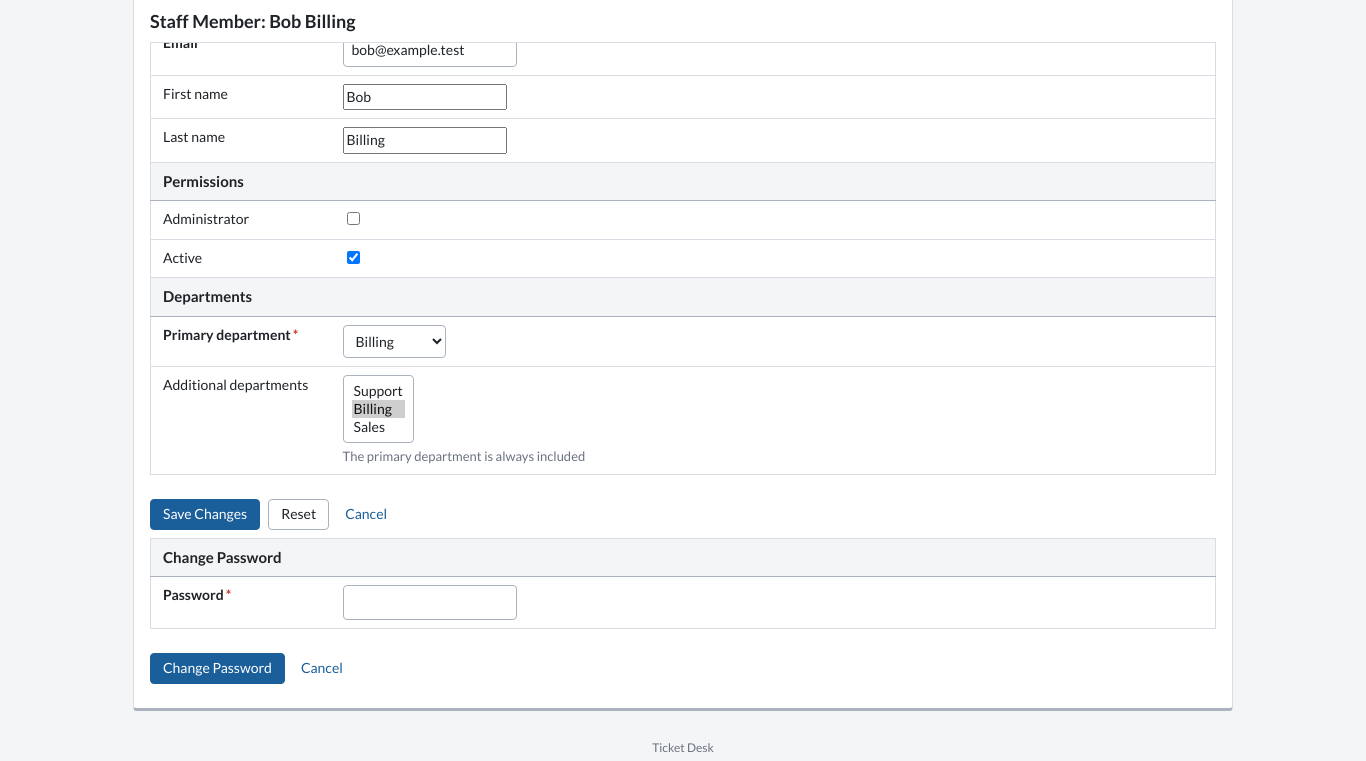
Test: a change-password validation error renders in its row
(page scrolled)
Type "x" into the password field labelled "Password*".
click(430, 603); type("x")  # box [342,585,516,620]
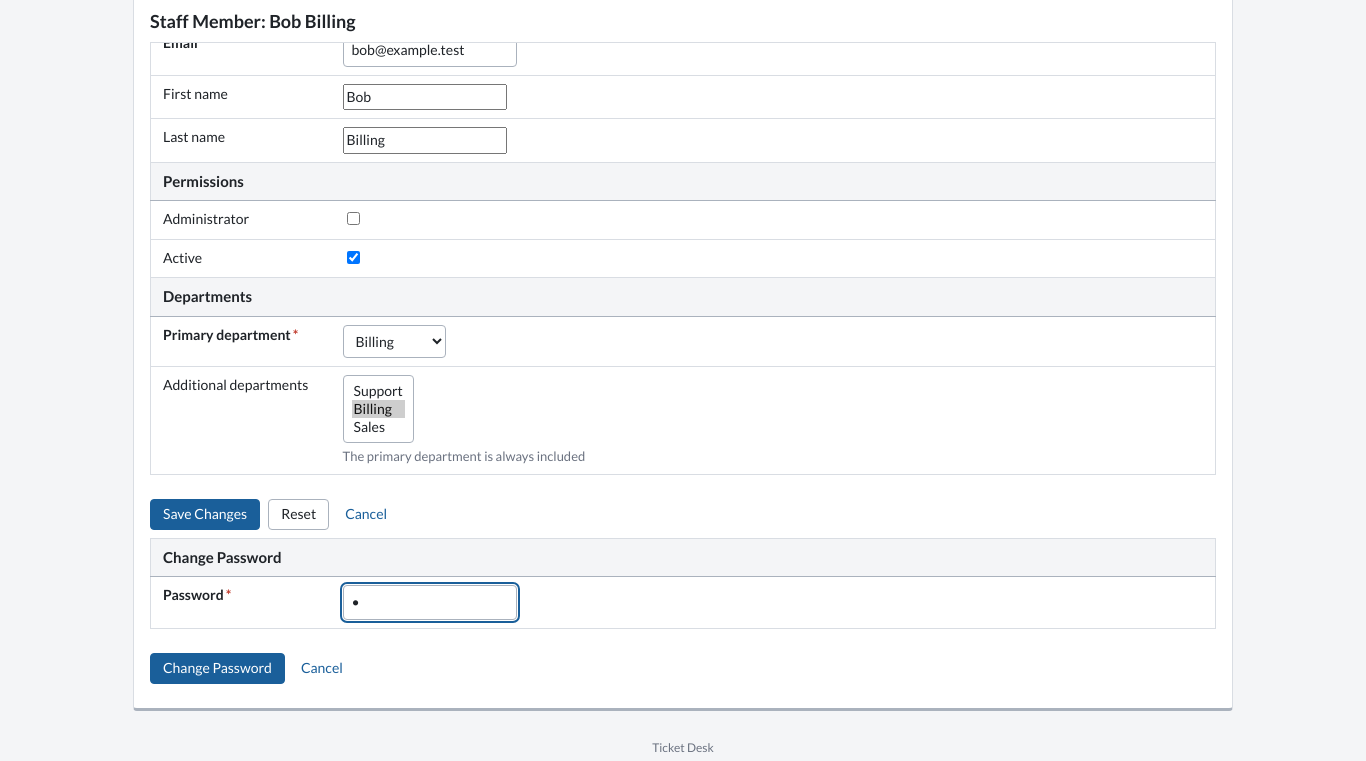
Click the button "Change Password".
click(217, 668)  # box [150,653,285,684]
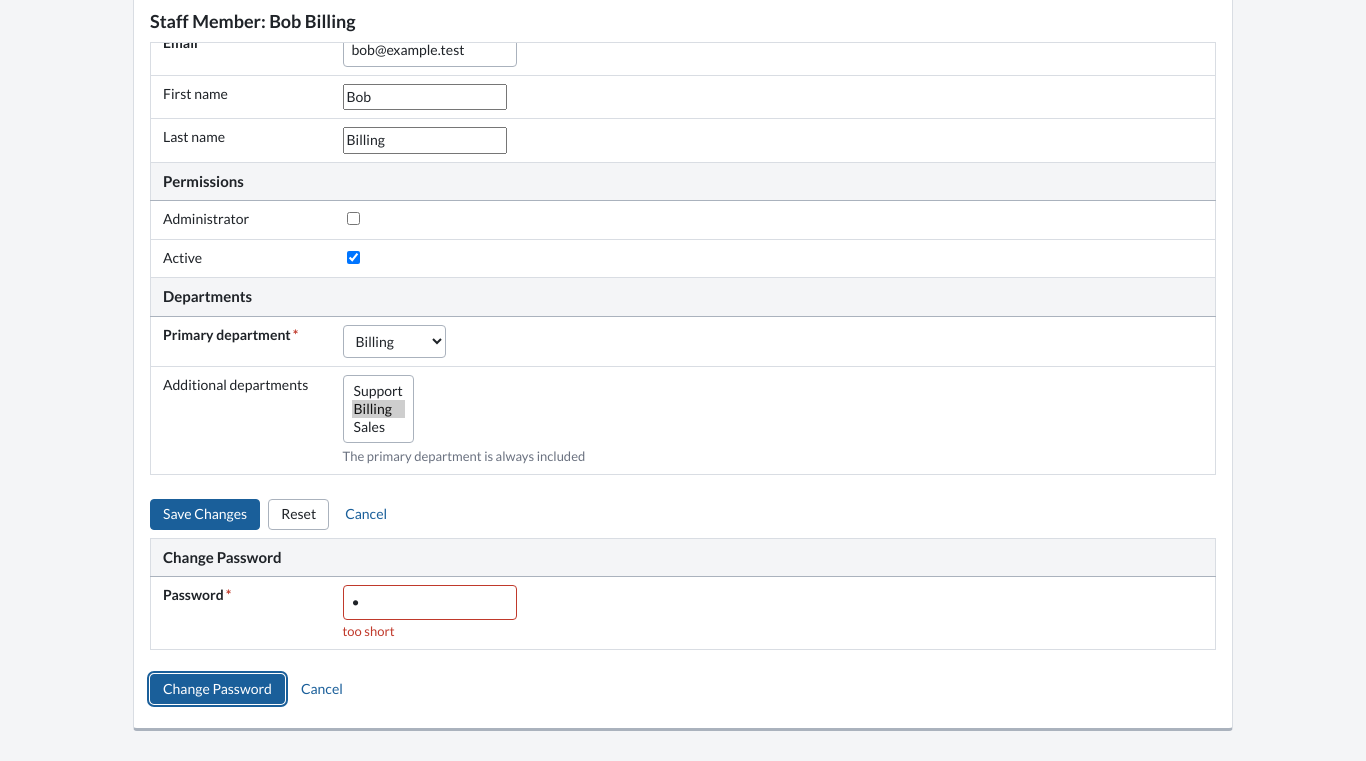
Now the text "too short" is shown, box [342,623,394,639]
